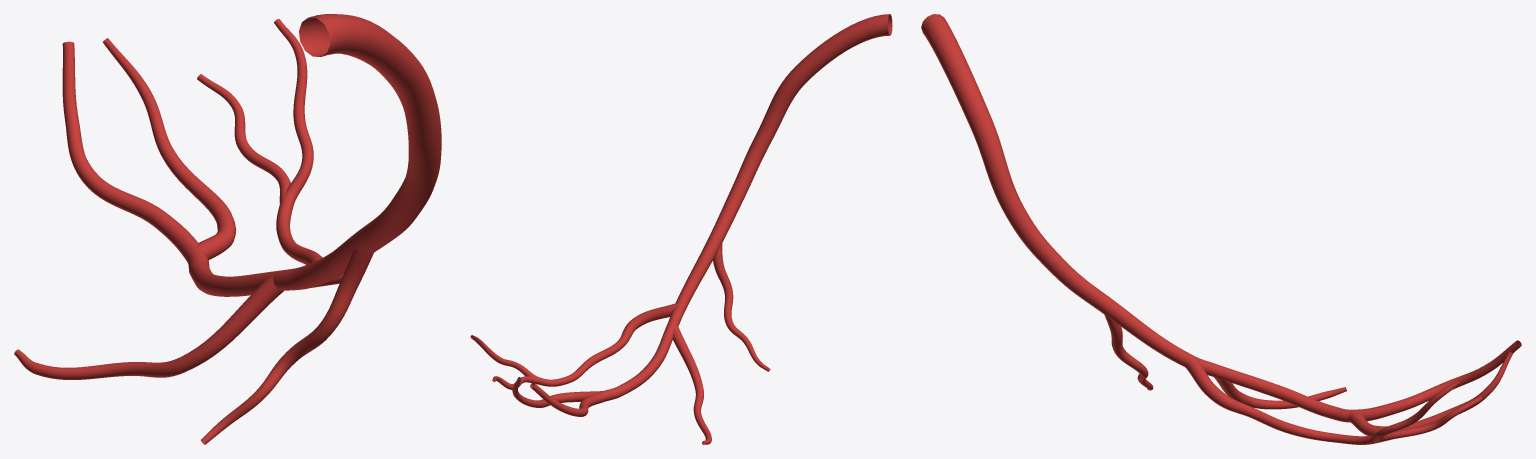
3 views of the same model, side by side, from view 1: azimuth 30°, elevation 25°; view 2: azimuth 150°, elevation 25°; view 3: azimuth 270°, elevation 25° (orthographic). The views are drawn at different scales.
Visible parts, largest first — view 1: 前室间支; view 2: 前室间支; view 3: 前室间支.
Boxes of the visible parts, x1=… form: 前室间支: x1=14, y1=14, x2=441, y2=444; 前室间支: x1=470, y1=14, x2=892, y2=444; 前室间支: x1=921, y1=14, x2=1521, y2=444.
Bounding box in the file's own units: 0.0578 × 0.0832 × 0.1208.
